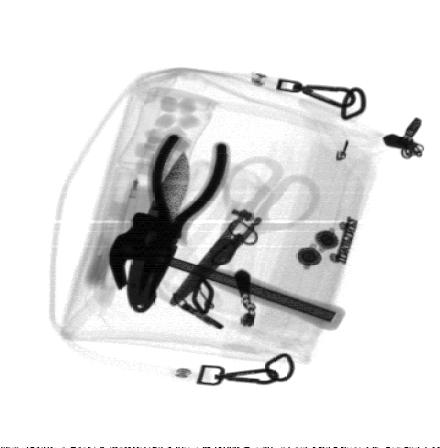Hammer: (107, 211, 347, 331)
Knife: (124, 147, 193, 314)
Pliers: (136, 129, 230, 300)
Scissors: (168, 155, 321, 309)
